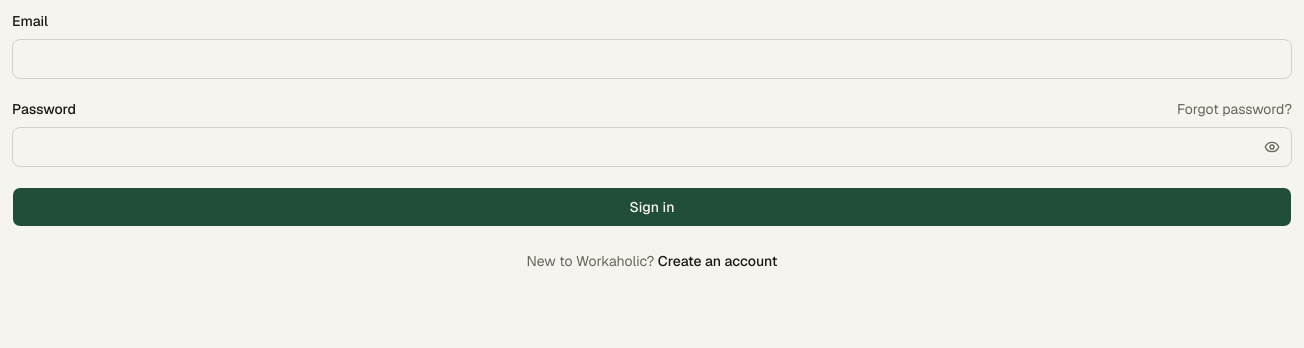
Test: LoginForm › explains a failed sign-in in plain language
Type "ada@example.com" into the field labelled "Email" at (652, 59), box [12,39,1292,79]
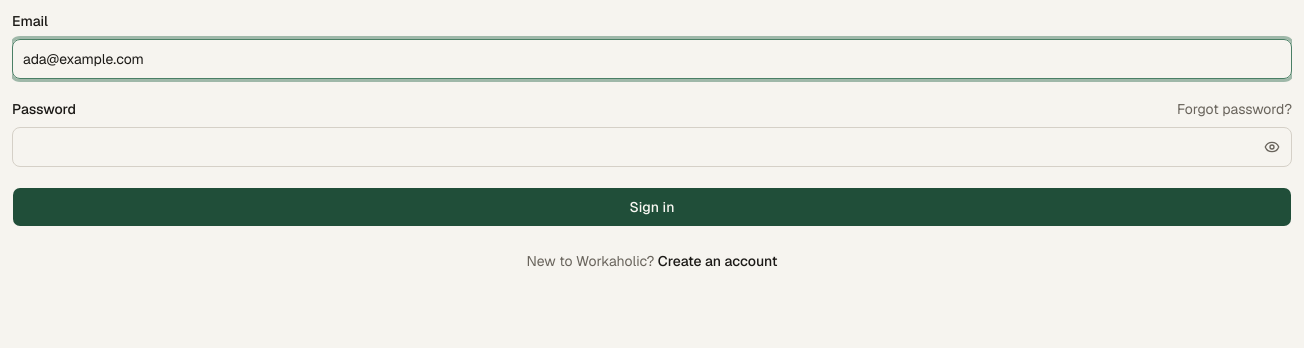
Type "wrong password" into the password field labelled "Password" at (652, 147), box [12,127,1292,167]
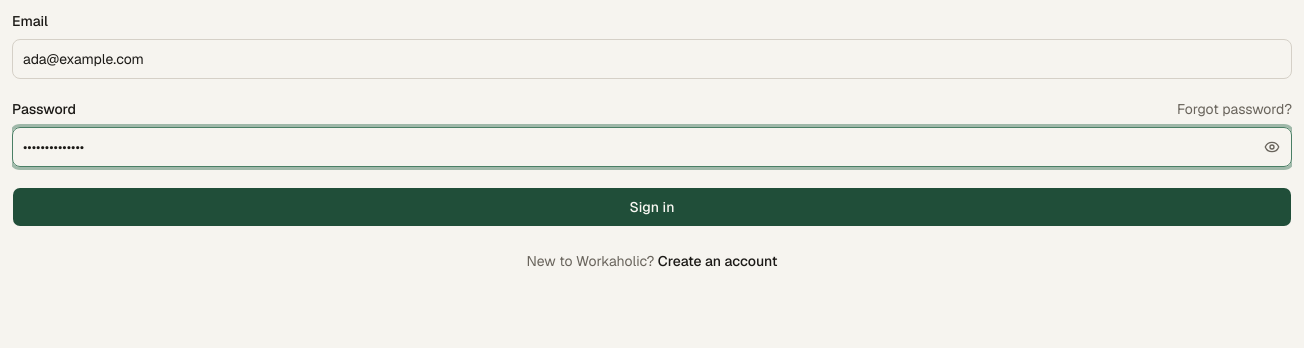
Click the button "Sign in" at (652, 207), box [12,187,1292,227]
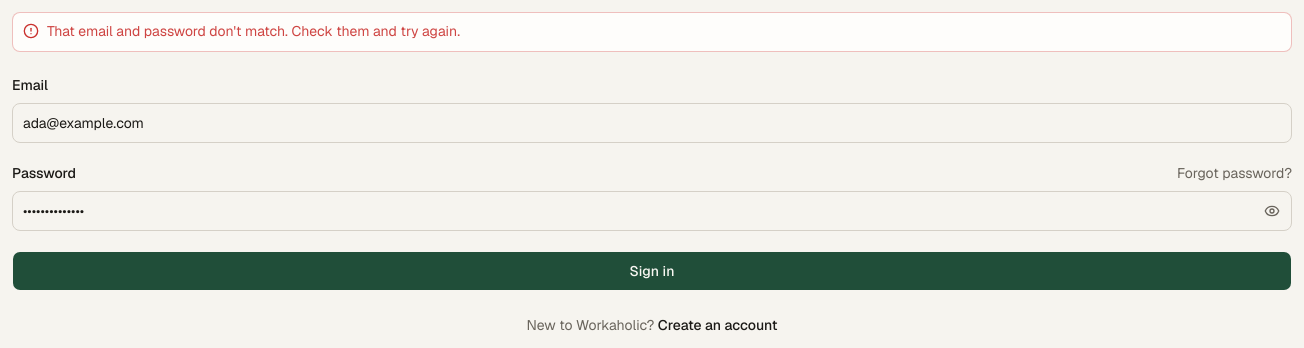
Result: the message reads "That email and password don't match. Check them and try again." at [47,22,460,40]
